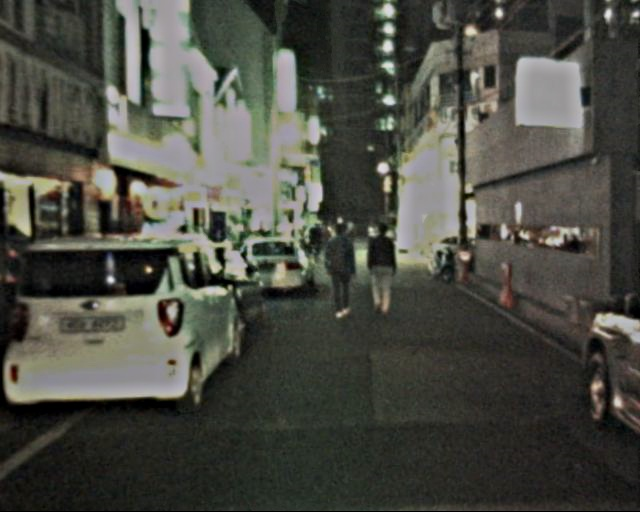person: (364, 221, 405, 316), (321, 224, 362, 317)
